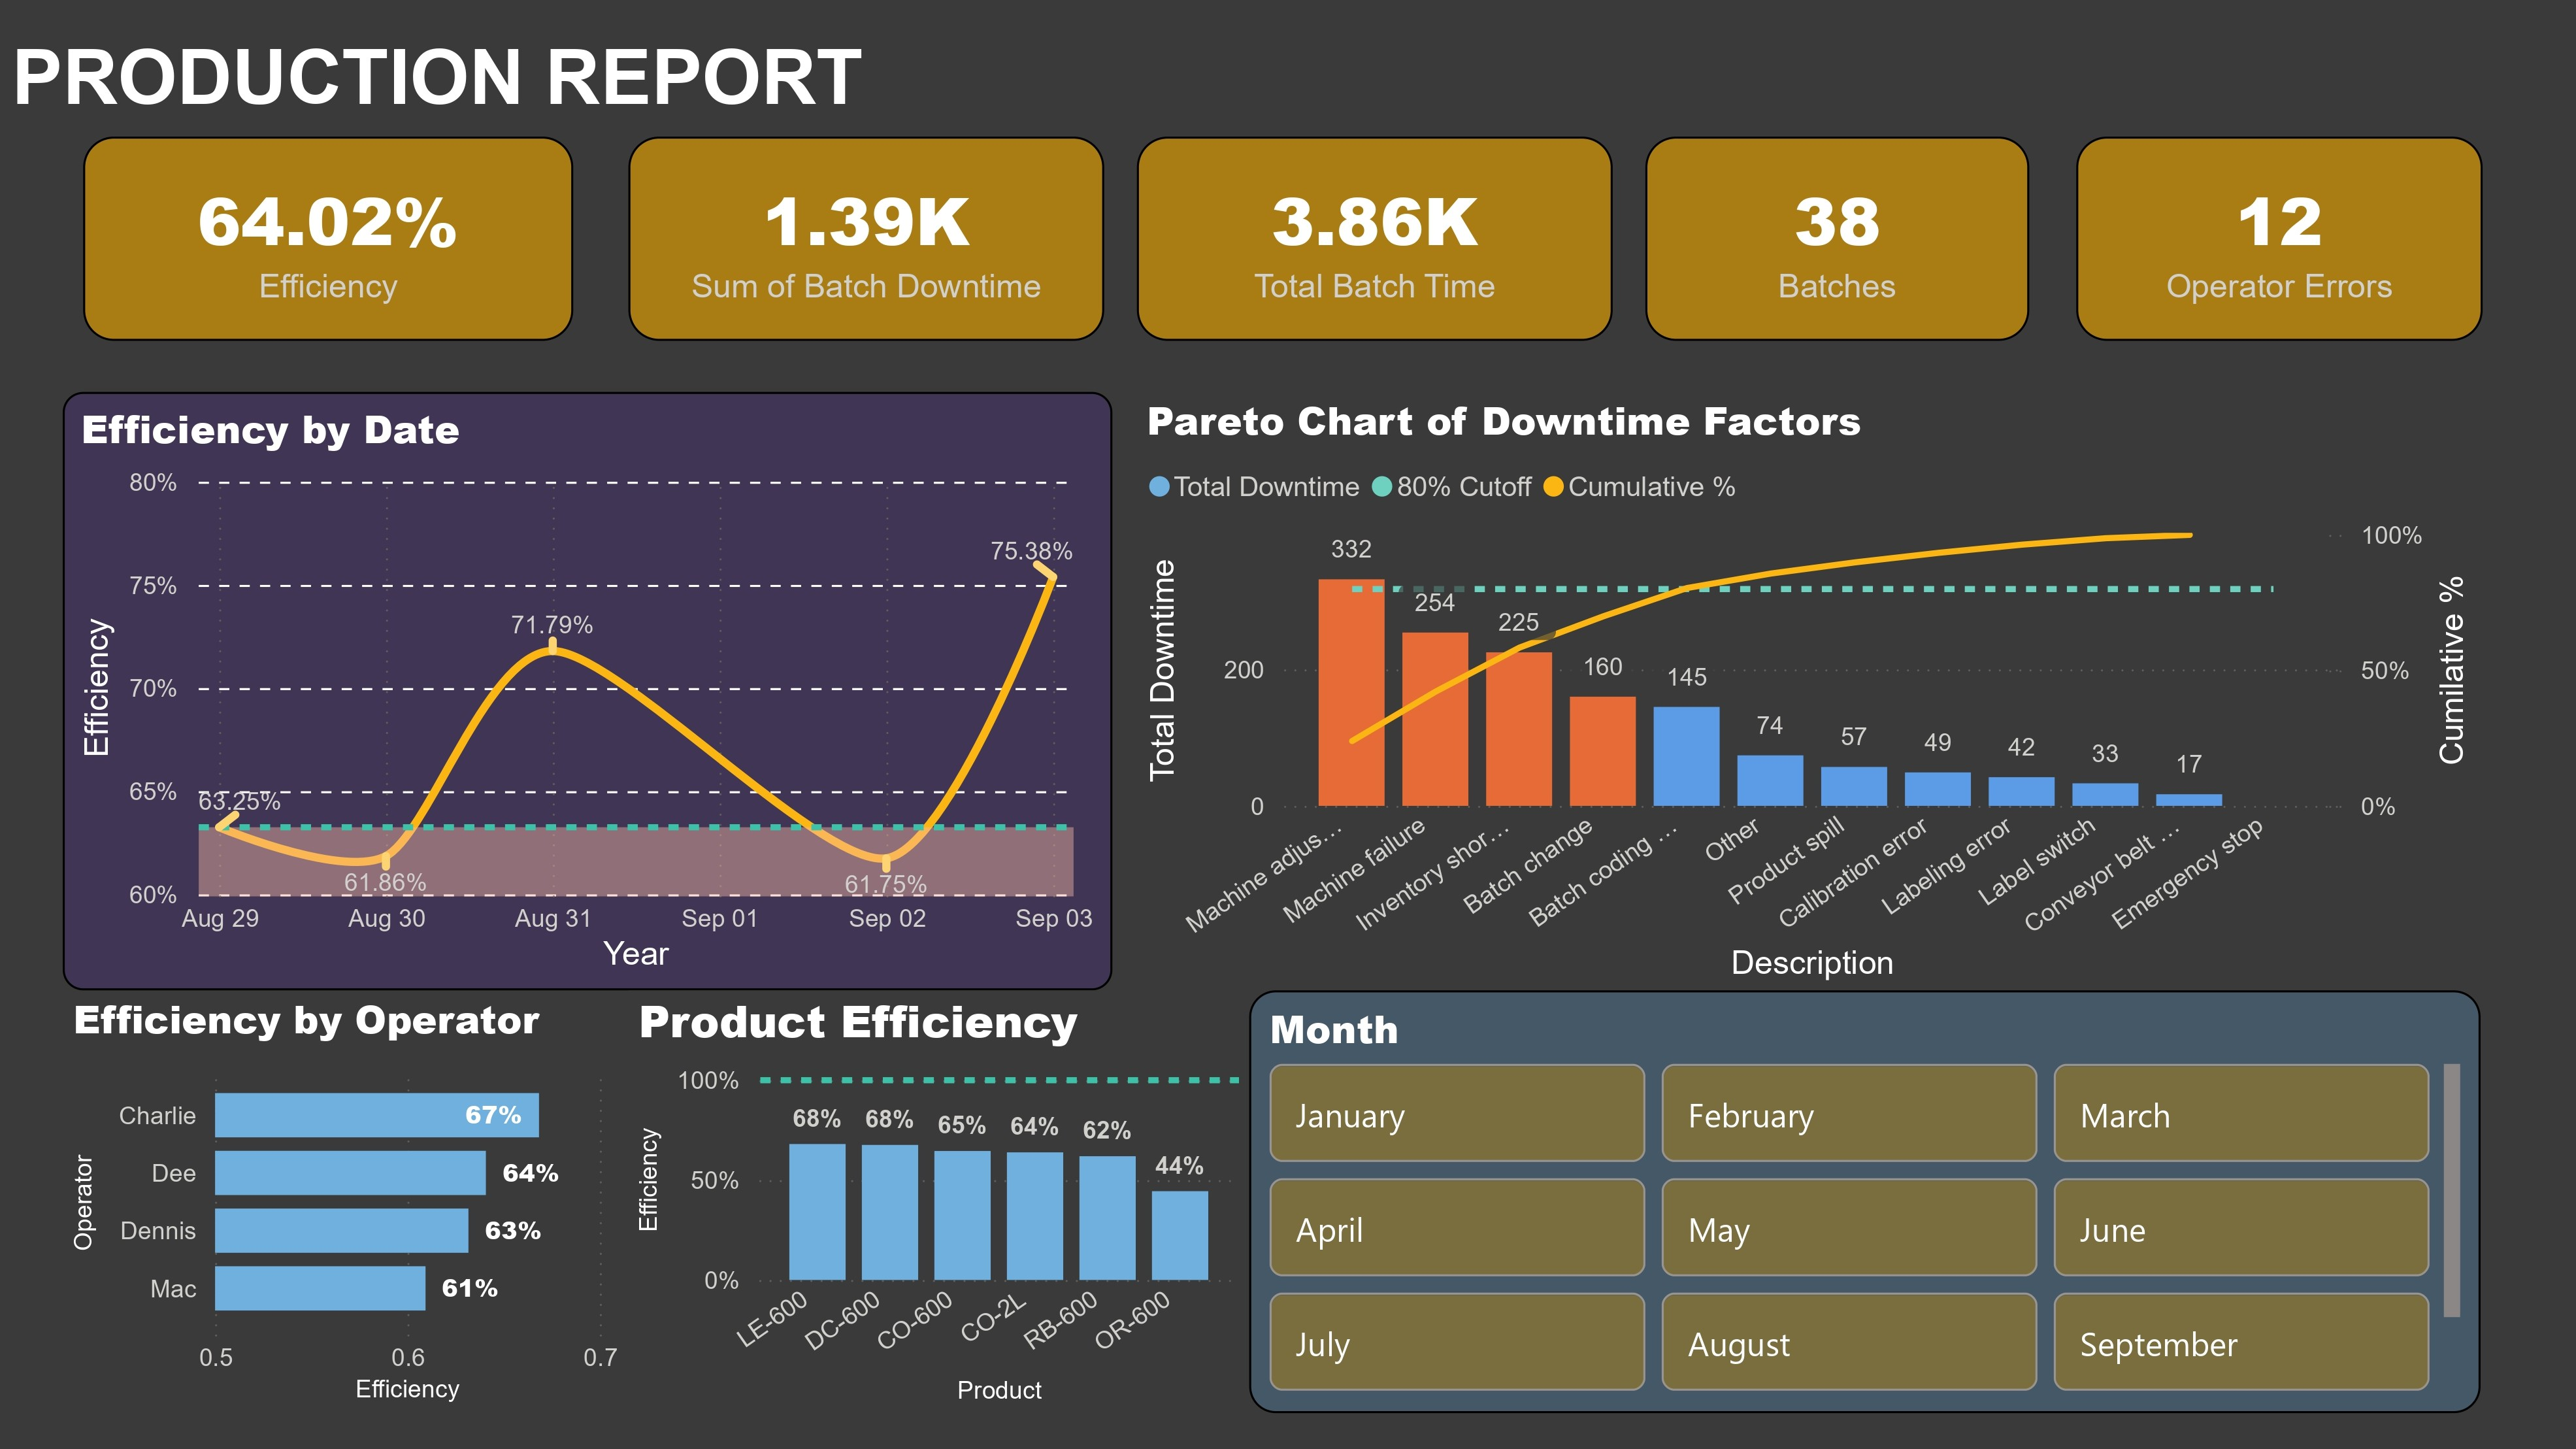

What the dashboard file says about the page in this screenshot:
{"tool":"powerbi","page":{"name":"Page 1","canvas":[1280,720],"ordinal":0},"visuals":[{"type":"textbox","box":[10,16.7,503.3,55],"z":0},{"type":"card","title":"Efficiency","fields":{"Values":["Table.Efficiency"]},"box":[50,71.7,240.1,100],"z":1000},{"type":"lineChart","title":"Efficiency by Date","fields":{"Y":["Table.Efficiency"],"Category":["Fact_Line Productivity.Date.Variation.Date Hierarchy.Year","Fact_Line Productivity.Date.Variation.Date Hierarchy.Quarter","Fact_Line Productivity.Date.Variation.Date Hierarchy.Month","Fact_Line Productivity.Date.Variation.Date Hierarchy.Day"]},"box":[40,196.7,513.6,293.1],"z":2000},{"type":"card","fields":{"Values":["Sum(Fact_Line Productivity.Batch Downtime)"]},"box":[317.3,71.7,233,100],"z":3000},{"type":"clusteredColumnChart","title":"Product Efficiency","fields":{"Category":["Fact_Line Productivity.Product"],"Y":["Table.Efficiency"]},"box":[317.1,490,304.3,207.1],"z":4000},{"type":"card","fields":{"Values":["CountNonNull(Fact_Line Productivity.Batch)"]},"box":[814.8,71.7,188.7,100],"z":5000},{"type":"clusteredBarChart","fields":{"Category":["Fact_Line Productivity.Operator"],"Y":["Table.Efficiency"]},"box":[40,490,277.1,207.1],"z":6000},{"type":"card","fields":{"Values":["CountNonNull(Downtime factors.Operator Error)"]},"box":[1026.3,71.7,198.7,100],"z":7000},{"type":"card","fields":{"Values":["Sum(Fact_Line Productivity.Batch time)"]},"box":[566,71.7,233,100],"z":8000},{"type":"lineClusteredColumnComboChart","title":"Pareto Chart of Downtime Factors","fields":{"Y":["Table.Total Downtime"],"Category":["Downtime factors.Description"],"Y2":["Table.80% Cutoff","Table.Cumulative %"]},"box":[565.7,197.1,658.6,292.9],"z":9001},{"type":"advancedSlicerVisual","fields":{"Values":["Fact_Line Productivity.Date.Variation.Date Hierarchy.Month"]},"box":[621.4,490,602.9,207.1],"z":9002}]}

Visuals, with their boxes in screenshot pixels (x1, y1, x2, y2), scaled from the page's 1280x720 canvas onto the 2576x1449 screenshot:
textbox: box(20, 33, 1033, 144)
"Efficiency" card: box(101, 144, 584, 346)
"Efficiency by Date" lineChart: box(80, 396, 1114, 986)
card - Sum(Fact_Line Productivity.Batch Downtime): box(638, 144, 1108, 346)
"Product Efficiency" clusteredColumnChart: box(638, 986, 1251, 1403)
card - CountNonNull(Fact_Line Productivity.Batch): box(1640, 144, 2019, 346)
clusteredBarChart - Fact_Line Productivity.Operator x Table.Efficiency: box(80, 986, 638, 1403)
card - CountNonNull(Downtime factors.Operator Error): box(2066, 144, 2466, 346)
card - Sum(Fact_Line Productivity.Batch time): box(1139, 144, 1608, 346)
"Pareto Chart of Downtime Factors" lineClusteredColumnComboChart: box(1138, 397, 2464, 986)
advancedSlicerVisual - Fact_Line Productivity.Date.Variation.Date Hierarchy.Month: box(1251, 986, 2464, 1403)
